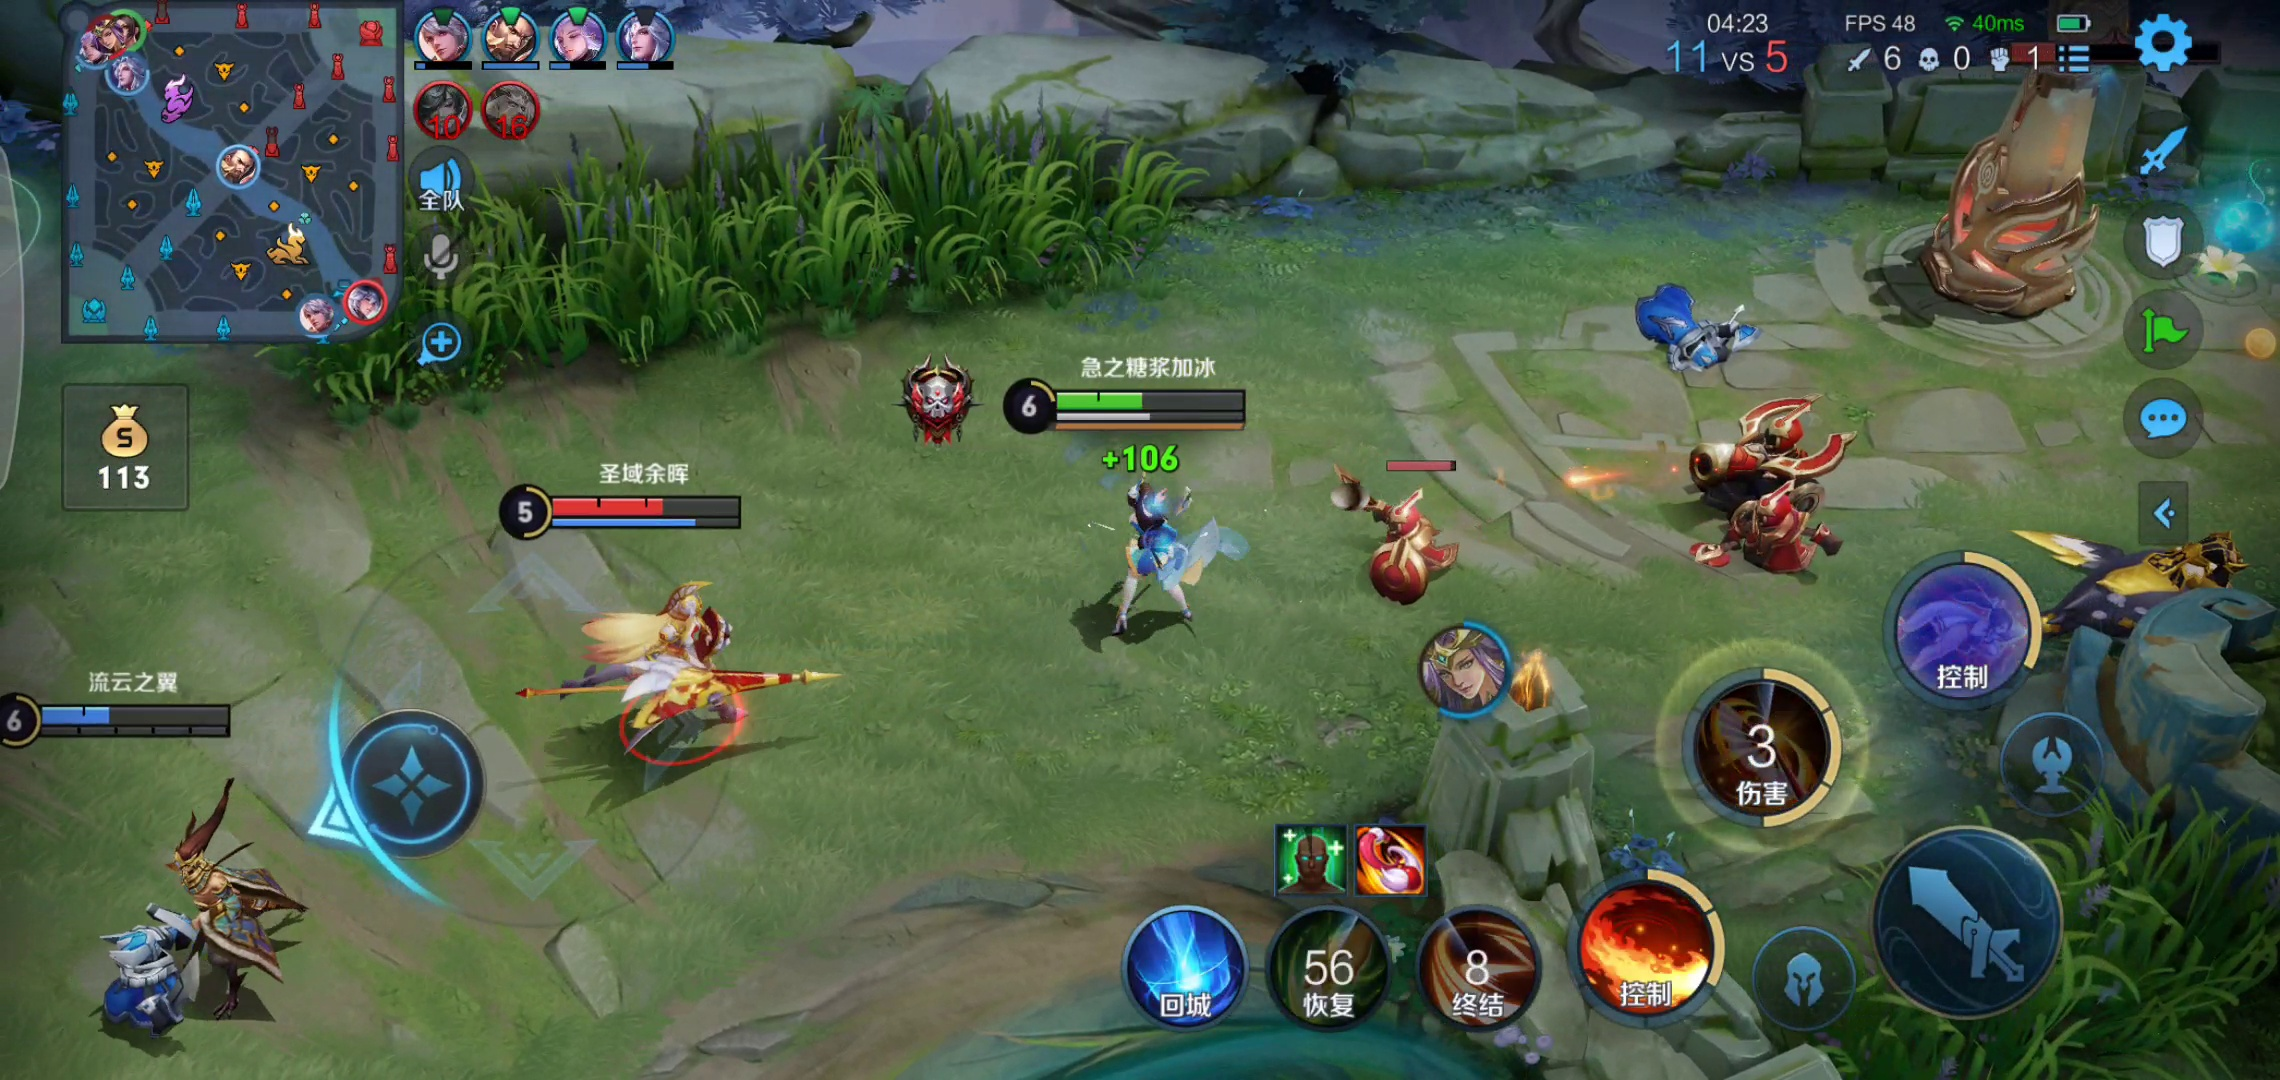grass: (446, 129, 1187, 368), (1914, 807, 2280, 1065)
hero: (537, 583, 794, 772), (180, 818, 301, 1015), (1091, 472, 1219, 645)
soldier: (1333, 475, 1482, 603), (1682, 416, 1844, 515), (1626, 276, 1770, 385), (97, 906, 189, 1031), (1738, 490, 1839, 568)
tower: (1902, 45, 2135, 301)
